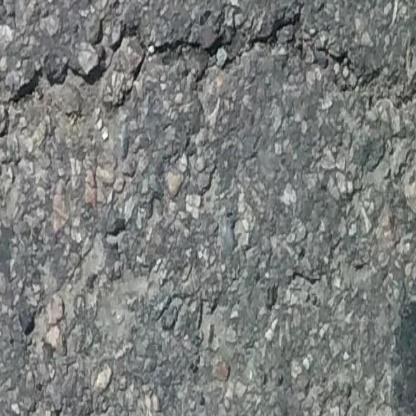Cracks: (0, 19, 416, 113)
